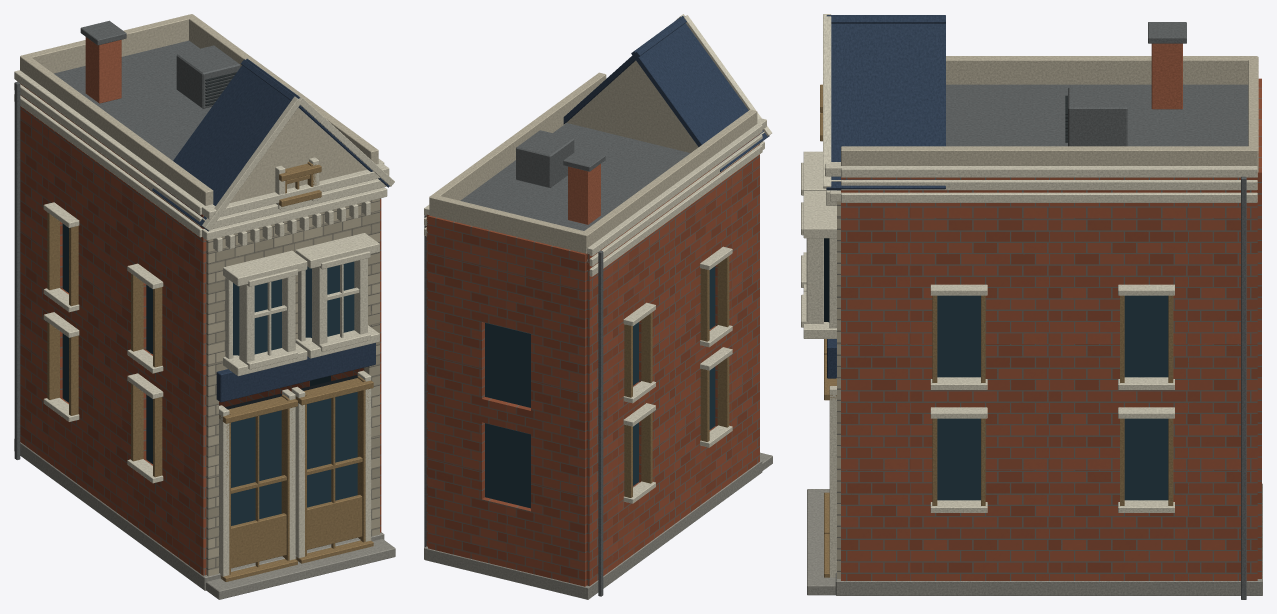
File: BUSS7_lod1.glb
3 views of the same model, side by side, from view 1: azimuth 30°, elevation 25°; view 2: azimuth 150°, elevation 25°; view 3: azimuth 270°, elevation 25° (orthographic). The views are drawn at different scales.
Parts seen in each view (by area): view 1: BUSS7_LOD1; view 2: BUSS7_LOD1; view 3: BUSS7_LOD1.
Boxes of the visible parts, <box> form: BUSS7_LOD1: <box>14,14,395,599</box>; BUSS7_LOD1: <box>424,14,772,599</box>; BUSS7_LOD1: <box>801,14,1262,599</box>.
Size of the model in its own units: 3.71 by 8.45 by 6.65.
12 materials, 10 textured.
